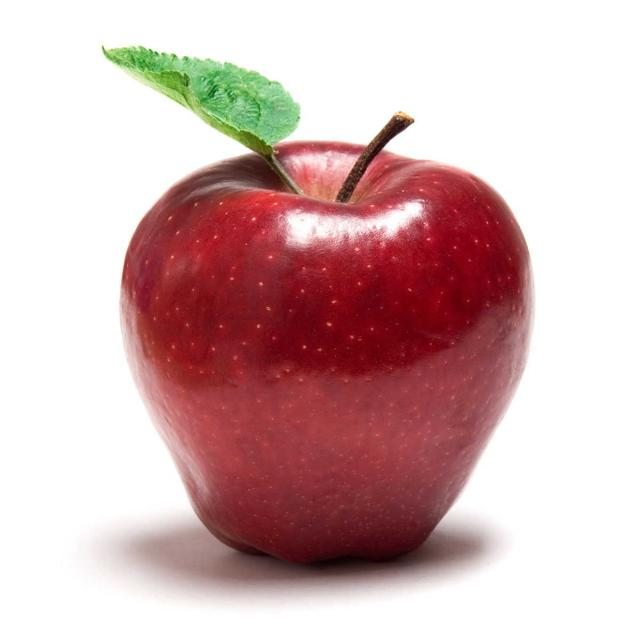apple: (102, 129, 534, 579)
